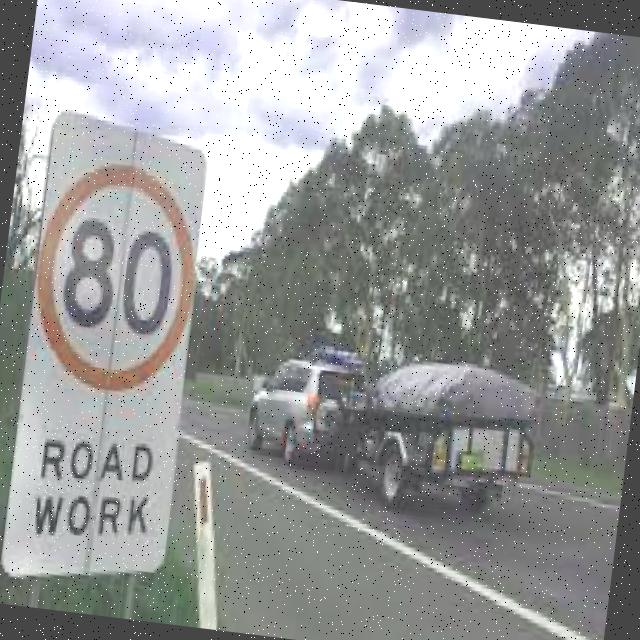Ograniczenie predkosci do 80: (23, 180, 204, 395)
